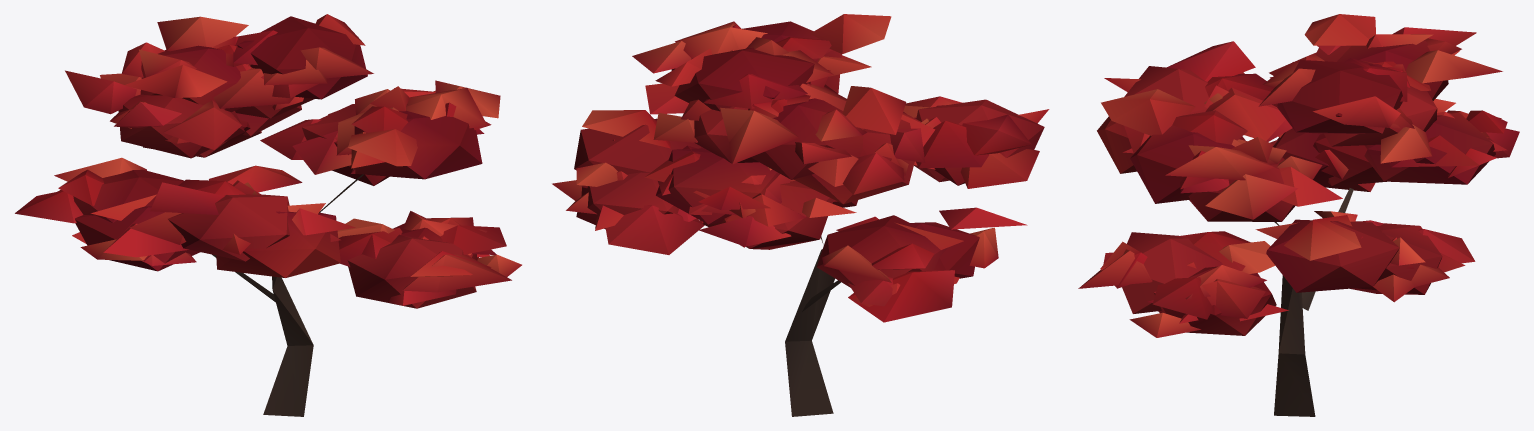
Rendered from zen_maple_red-lod1.glb.
The picture shows the model from 3 angles, left to right: view 1: azimuth 30°, elevation 25°; view 2: azimuth 150°, elevation 25°; view 3: azimuth 270°, elevation 25°; orthographic projection. The views are drawn at different scales.
Visible parts, largest first — view 1: zen_maple_red; view 2: zen_maple_red; view 3: zen_maple_red.
Boxes of the visible parts, left/top/right/bottom form: zen_maple_red: left=15, top=14, right=521, bottom=416; zen_maple_red: left=552, top=14, right=1049, bottom=416; zen_maple_red: left=1078, top=14, right=1519, bottom=416.
Bounding box in the file's own units: 8.43 × 7.02 × 7.72.
